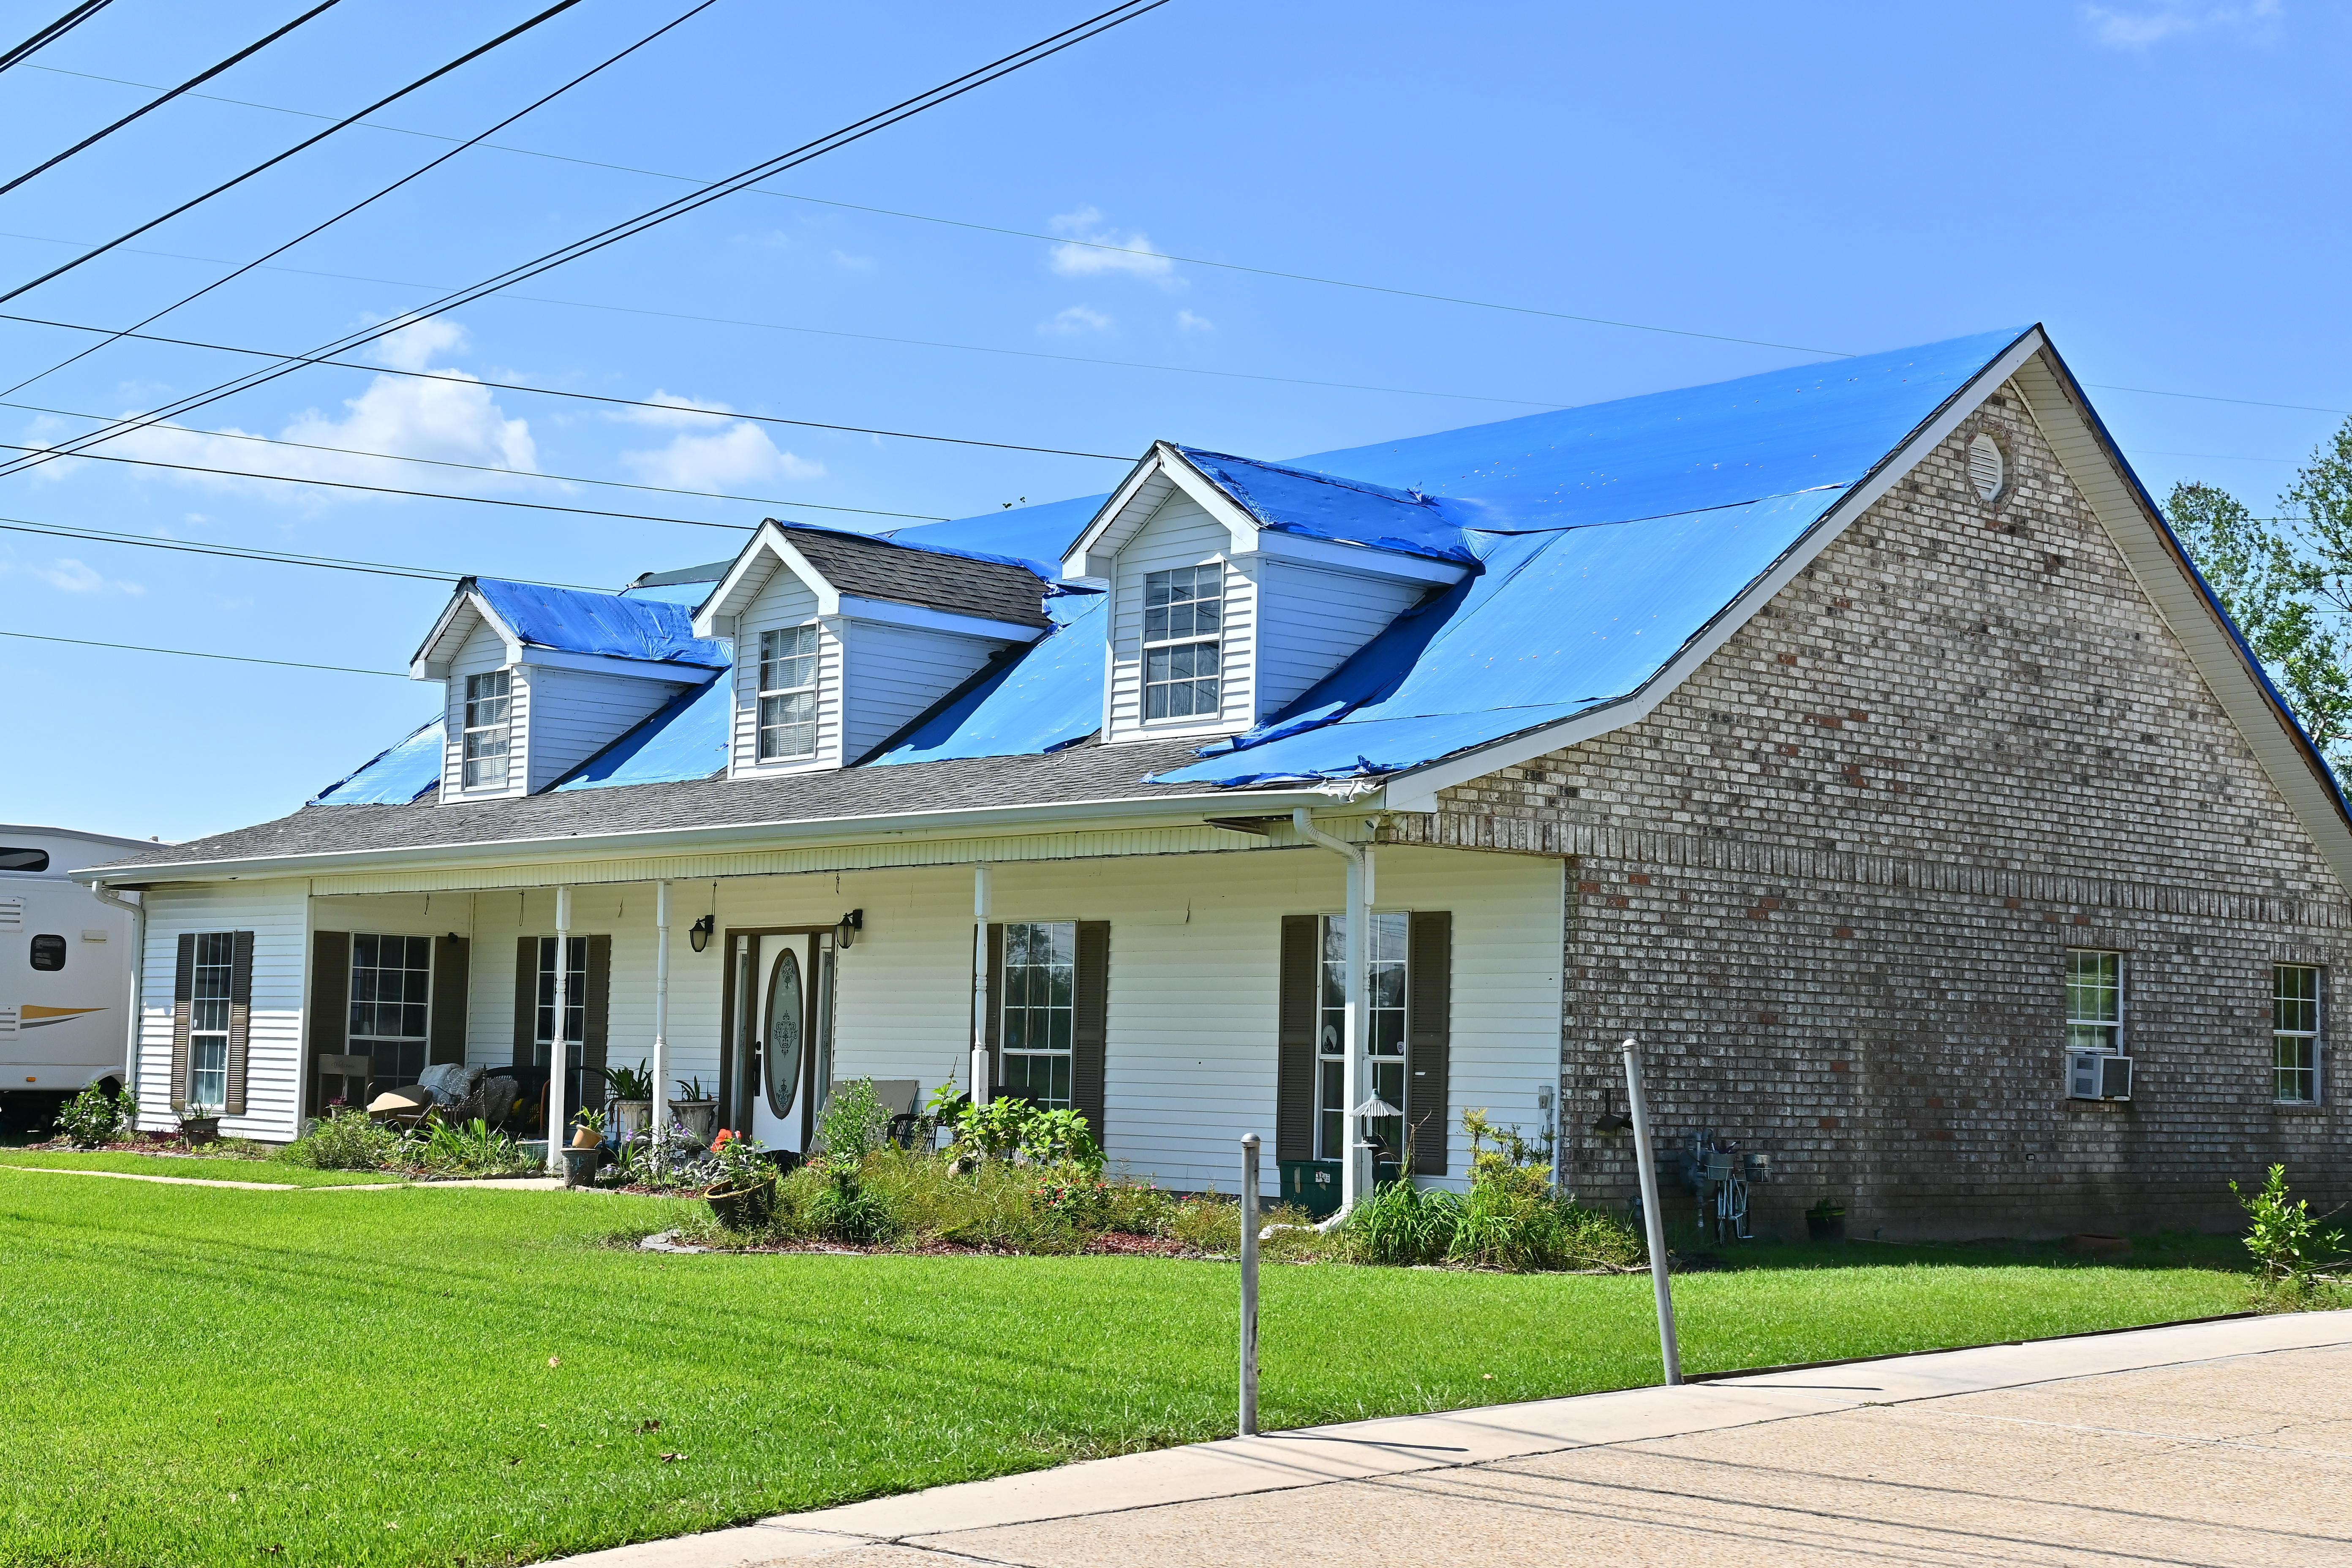minor: (56, 306, 2352, 1193)
